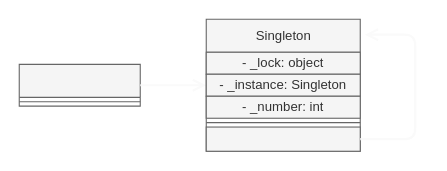
The diagram is 447 pixels wide and 171 high, and some of its shapes have lost their labels. The shapes that lost their labels are listed below. From the top down, each one's box as (x1, y1, x2, y2) in pixels, then its label:
(18, 63, 140, 106): Program
(205, 126, 360, 151): GetInstance(): Singleton
